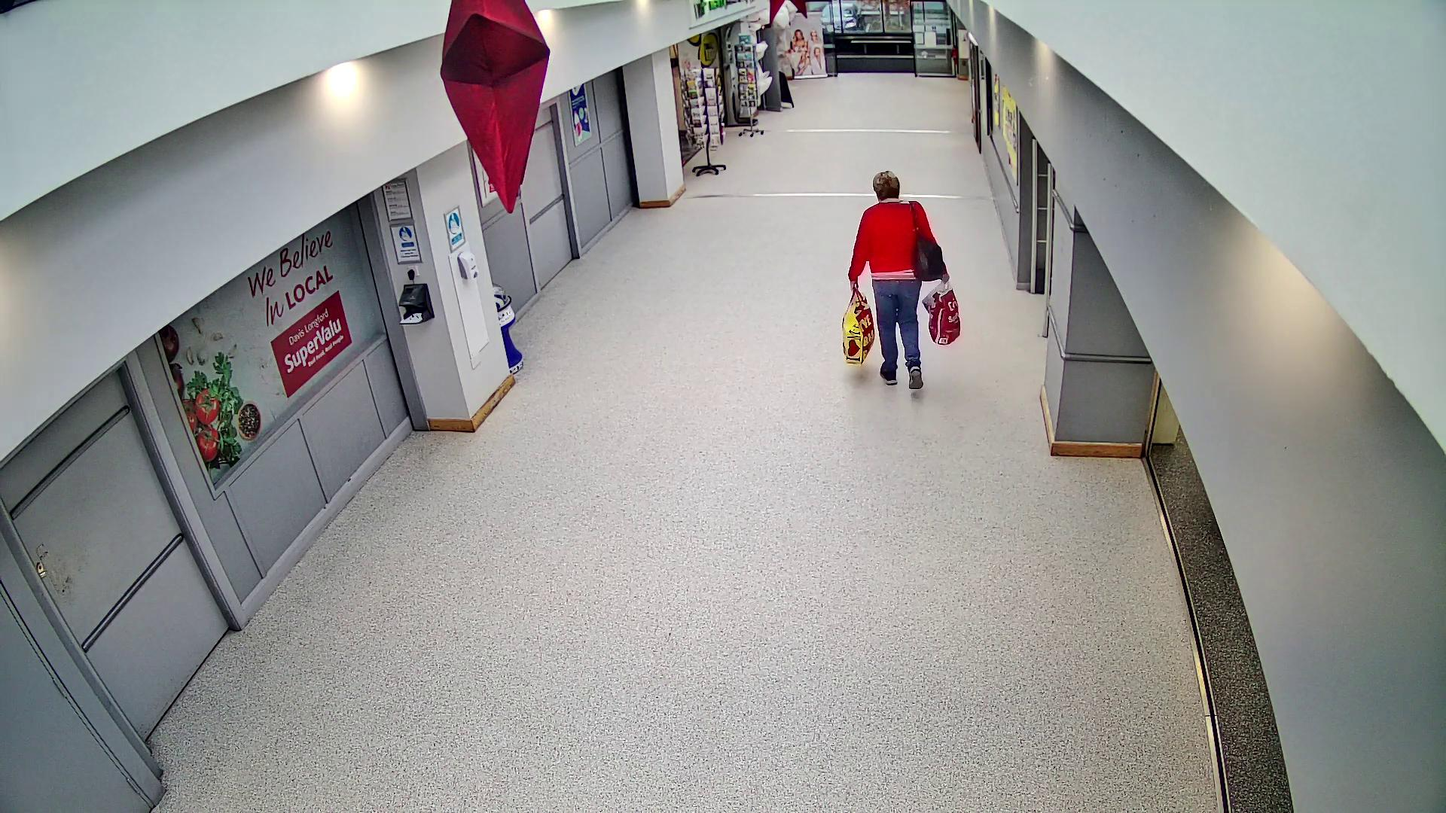backpack-or-handbag: (911, 231, 944, 281)
filled-shopping-bags: (841, 288, 875, 365), (922, 282, 962, 345)
person: (848, 168, 949, 390)
person-with-backpack-handbag-and-shopping-bag-s-: (840, 167, 961, 391)
